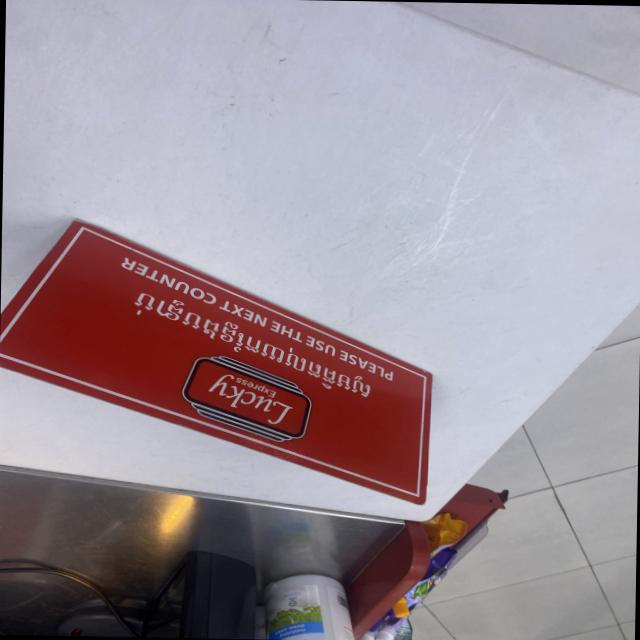Yolov11kh: (122, 282, 381, 404)
